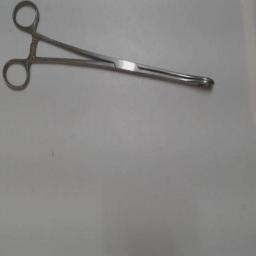Sponge Forceps: (0, 1, 220, 97)
